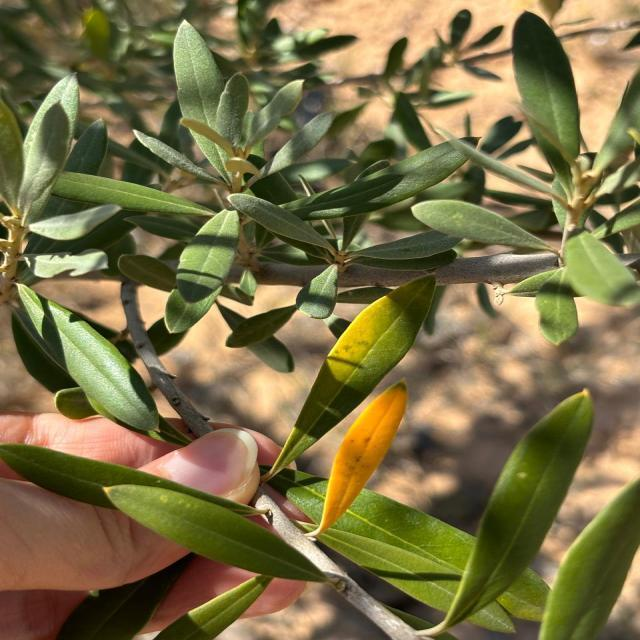OlivePeacockSpot: (262, 276, 435, 480), (306, 381, 408, 539)
